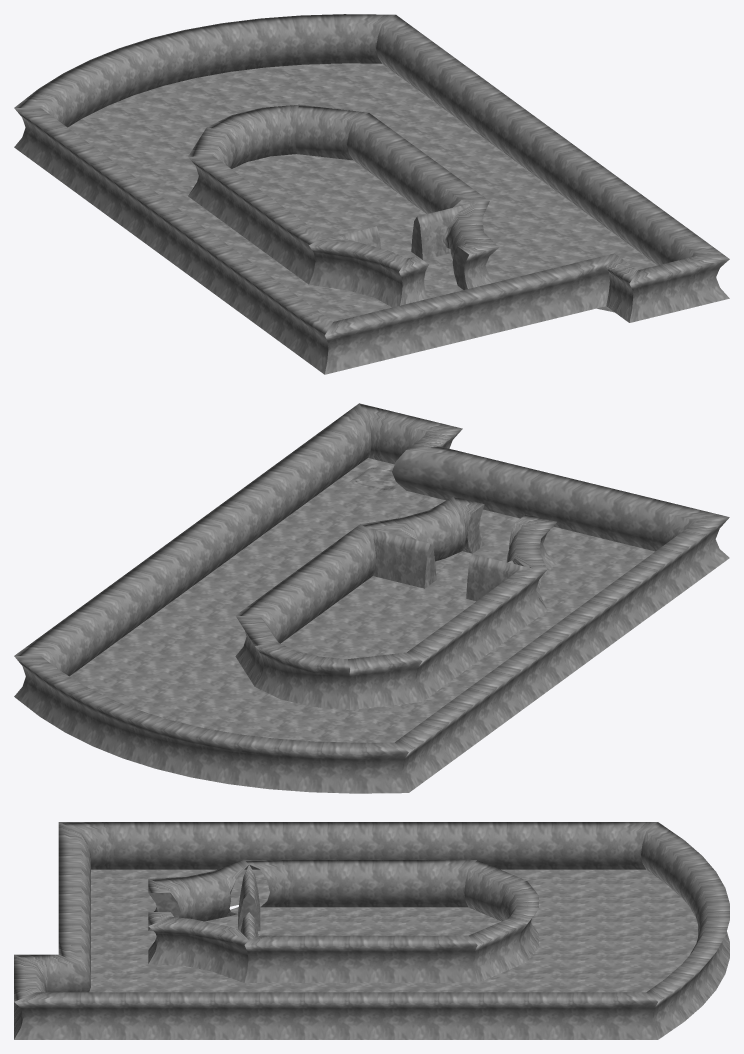
File: level_15.gltf
3 views of the same model, one above another, from view 1: azimuth 30°, elevation 25°; view 2: azimuth 150°, elevation 25°; view 3: azimuth 270°, elevation 25° (orthographic). The views are drawn at different scales.
Visible parts, largest first — view 1: Mesh_11, Mesh_13, Mesh_12, Mesh_5, Mesh_8, Mesh_7, Mesh_1, Mesh_2, Mesh_20, Mesh_16, Mesh_21, Mesh_10 (+12 smaller); view 2: Mesh_12, Mesh_11, Mesh_13, Mesh_8, Mesh_5, Mesh_2, Mesh_1, Mesh_7, Mesh_20, Mesh_16, Mesh_18, Mesh_0 (+12 smaller); view 3: Mesh_11, Mesh_13, Mesh_5, Mesh_16, Mesh_20, Mesh_12, Mesh_7, Mesh_0, Mesh_15, Mesh_8, Mesh_1, Mesh_21 (+10 smaller).
Part boxes in pixels (x1,y1,x2,y2): Mesh_11: (376, 15, 729, 265); Mesh_13: (14, 107, 332, 374); Mesh_12: (14, 14, 395, 127); Mesh_5: (68, 63, 386, 192); Mesh_8: (324, 253, 614, 374); Mesh_7: (232, 154, 426, 258); Mesh_1: (484, 168, 657, 312); Mesh_2: (373, 67, 523, 230); Mesh_20: (188, 155, 320, 284); Mesh_16: (347, 113, 489, 213); Mesh_21: (309, 239, 407, 307); Mesh_10: (629, 255, 729, 322); Mesh_12: (14, 656, 408, 793); Mesh_11: (14, 403, 371, 676); Mesh_13: (395, 517, 729, 792); Mesh_8: (392, 446, 729, 551); Mesh_5: (86, 659, 413, 742); Mesh_2: (69, 579, 284, 686); Mesh_1: (187, 458, 443, 590); Mesh_7: (281, 576, 469, 659); Mesh_20: (407, 569, 546, 701); Mesh_16: (236, 524, 376, 643); Mesh_18: (255, 642, 349, 709); Mesh_0: (427, 496, 654, 563); Mesh_11: (14, 992, 657, 1039); Mesh_13: (59, 822, 657, 869); Mesh_5: (482, 869, 697, 992); Mesh_16: (244, 935, 477, 982); Mesh_20: (245, 860, 476, 907); Mesh_12: (641, 822, 729, 1039); Mesh_7: (257, 902, 501, 936); Mesh_0: (90, 878, 156, 988); Mesh_15: (148, 916, 248, 982); Mesh_8: (58, 822, 90, 986); Mesh_1: (89, 963, 280, 992); Mesh_21: (149, 860, 248, 921).
Bounding box in the file's own units: 15.44 × 1.55 × 25.99.
Materials: 3 (3 with a texture image).
